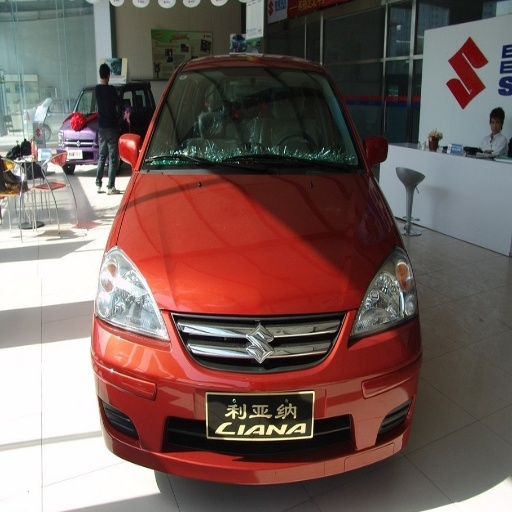front_bumper: (94, 308, 419, 479)
front_right_light: (97, 246, 170, 341)
hood: (117, 171, 392, 308)
